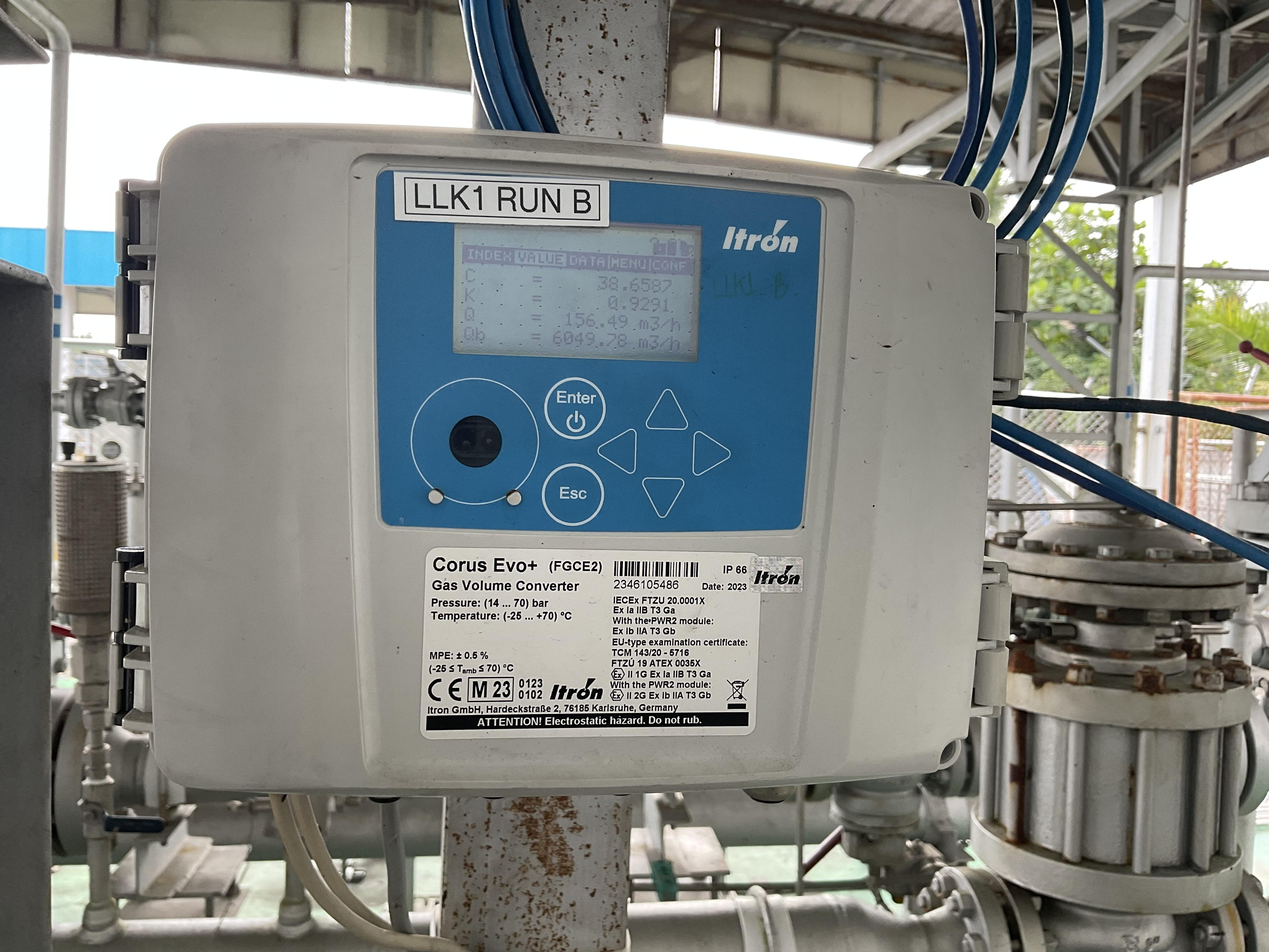digital_screen: (449, 215, 703, 363)
